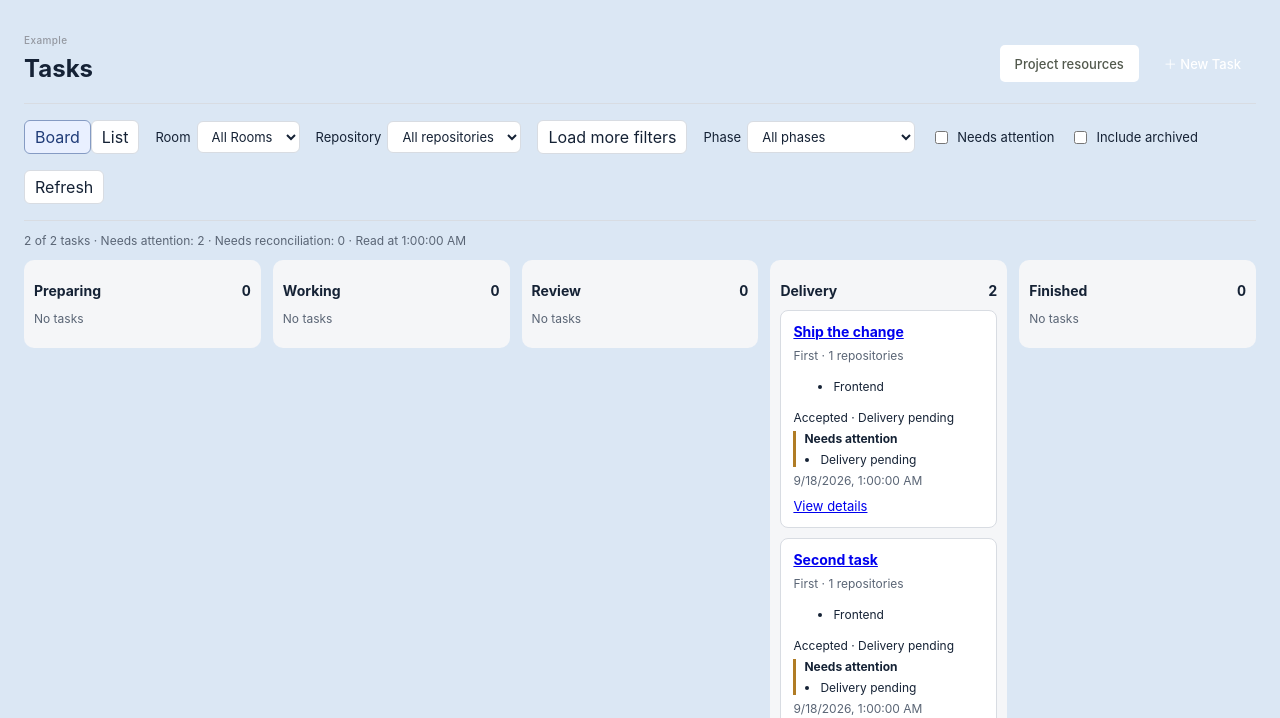
Test: Task board shared read view › a stale filter-options cursor retains loaded Tasks and restarts only the choices
Expected: the link "Second task" is shown, [793,551,878,568]
Click the button "Load more filters" at (612, 137), box [537,120,688,154]
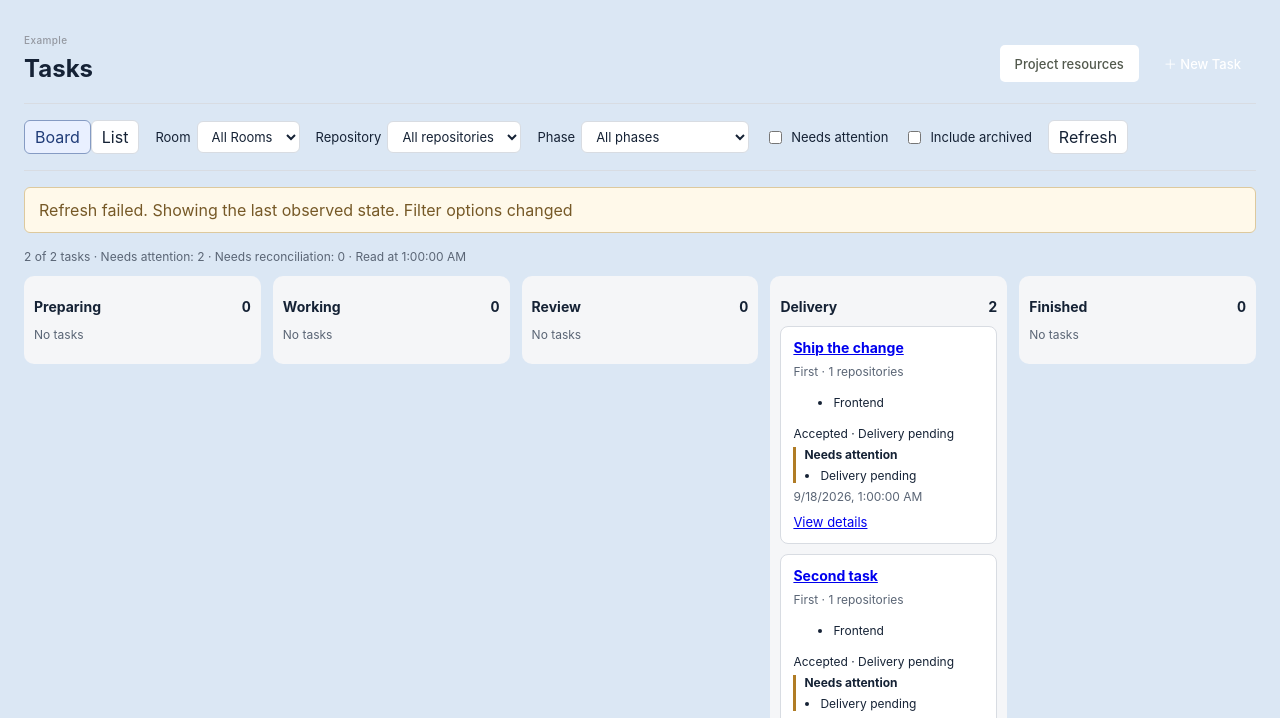
Expected: the link "Ship the change" is shown, [793,339,904,356]
Expected: the message "Refresh failed. Showing the last observed state. Filter options changed" is shown, [24,187,1256,233]
Click the button "Refresh" at (1088, 137), box [1048,120,1128,154]
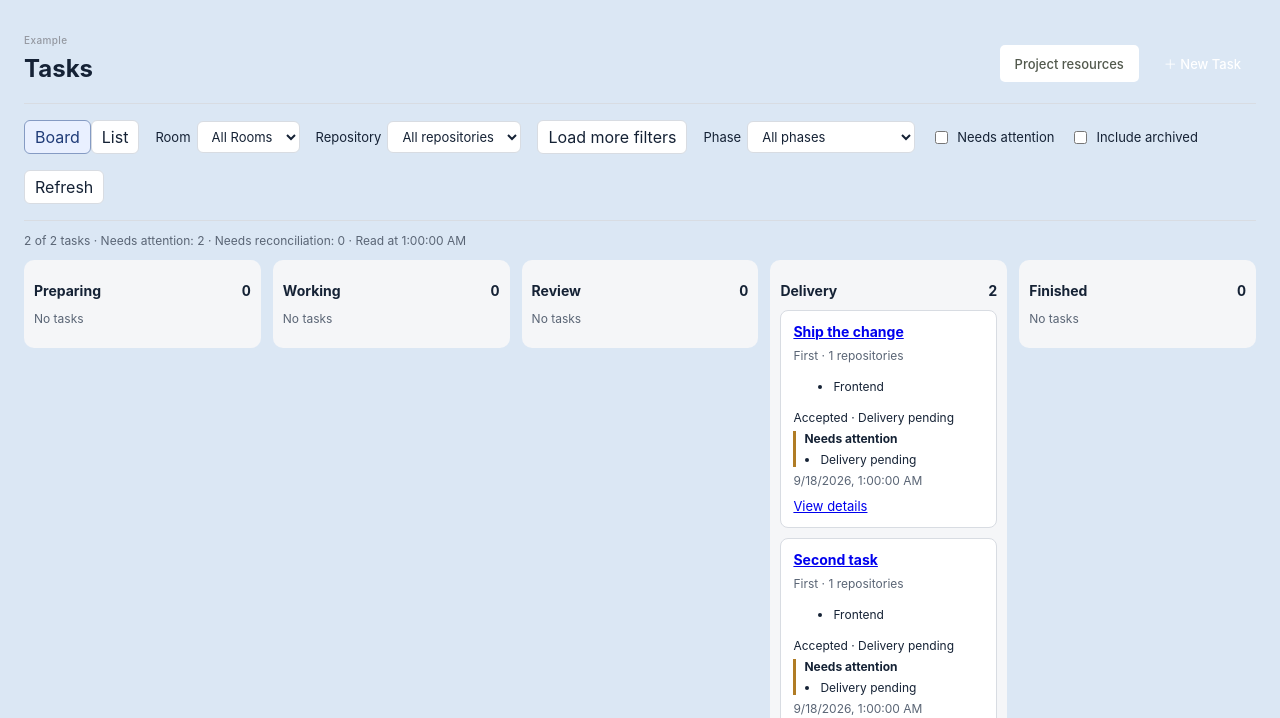
Expected: the message "Refresh failed. Showing the last observed state. Filter options changed" is gone
Expected: the button "Load more filters" is shown, [537,120,688,154]
